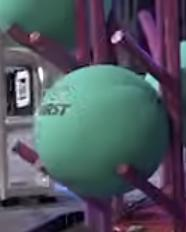algae: (35, 66, 169, 199), (0, 0, 112, 51), (144, 40, 186, 144)
